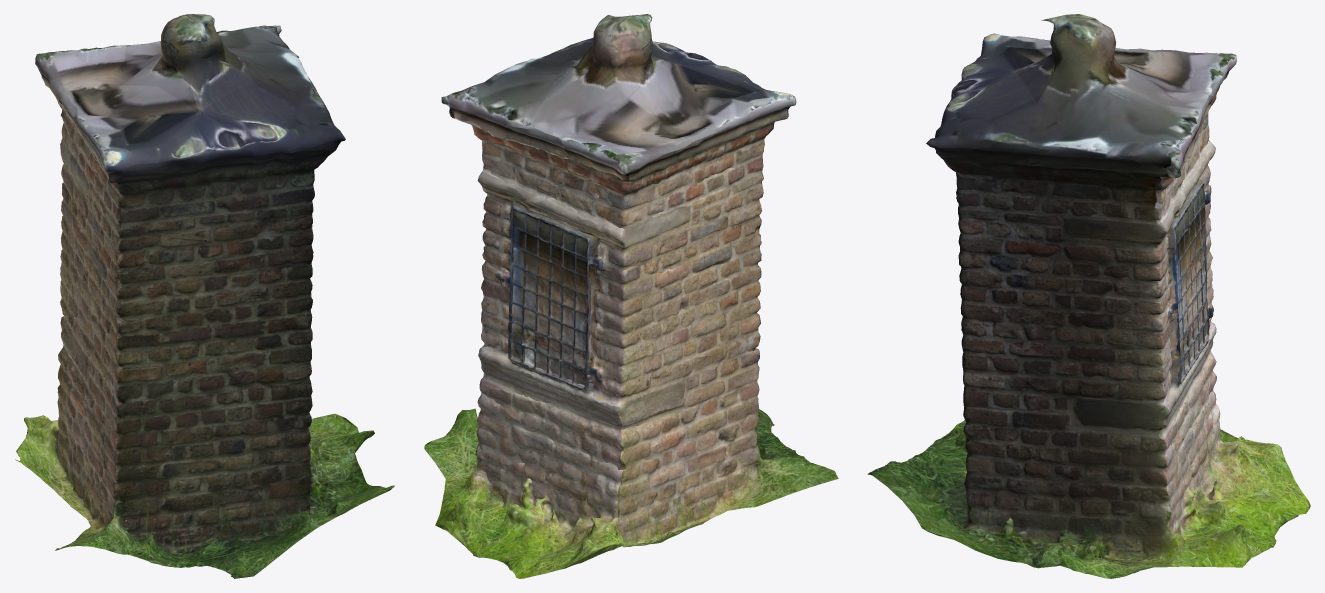
3 renders of one model, left to right at view 1: azimuth 30°, elevation 25°; view 2: azimuth 150°, elevation 25°; view 3: azimuth 270°, elevation 25°, orthographic. The views are drawn at different scales.
Parts seen in each view (by area): view 1: 34025248-f31e-49bb-ba12-a33424a312a5_0; view 2: 34025248-f31e-49bb-ba12-a33424a312a5_0; view 3: 34025248-f31e-49bb-ba12-a33424a312a5_0.
Boxes of the visible parts, <box> form: 34025248-f31e-49bb-ba12-a33424a312a5_0: <box>15,14,394,578</box>; 34025248-f31e-49bb-ba12-a33424a312a5_0: <box>424,14,838,578</box>; 34025248-f31e-49bb-ba12-a33424a312a5_0: <box>867,14,1310,578</box>.
Size of the model in its own units: 0.9208 by 1.21 by 0.9692.
1 material, 1 textured.
